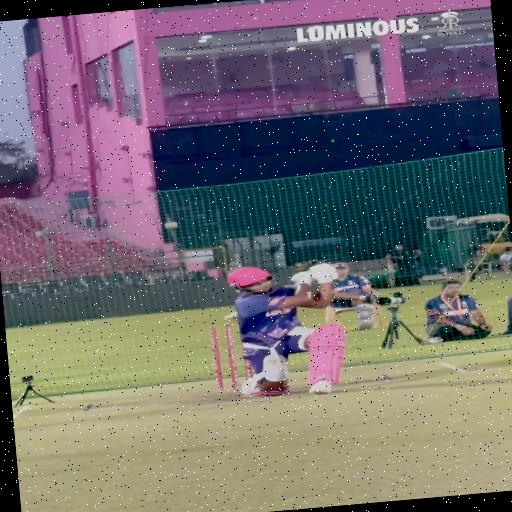Cricket bat: (224, 311, 237, 319)
